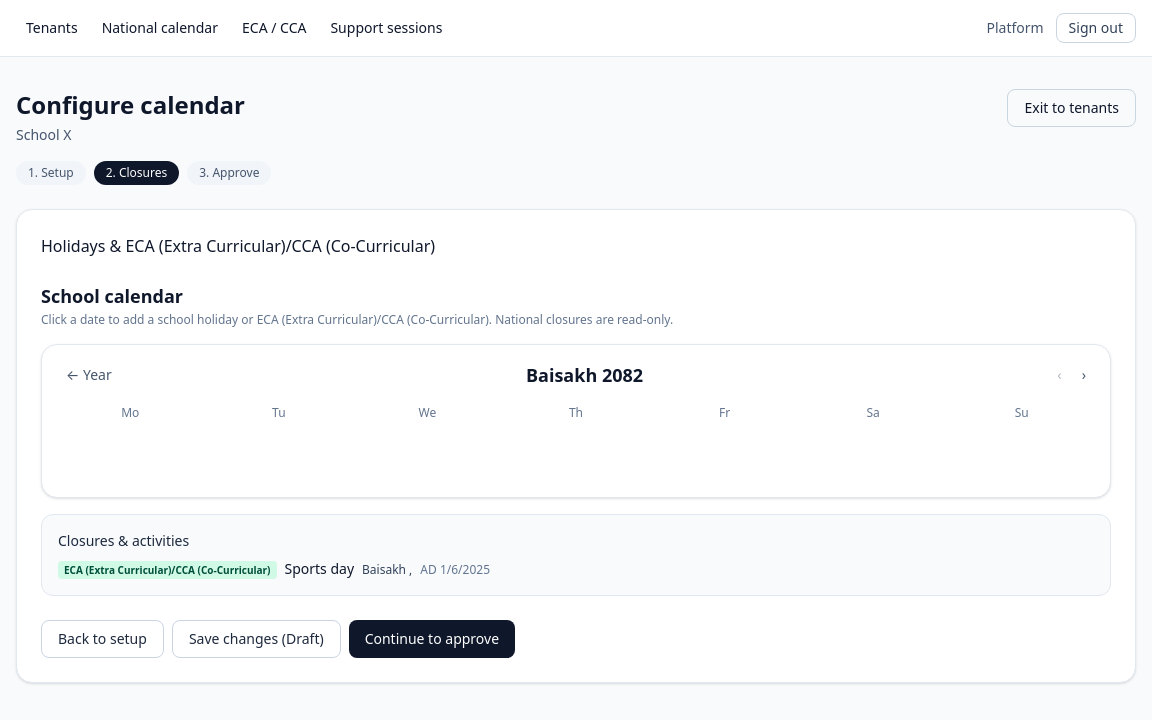
Test: TenantCalendarPage › saves draft without approving, then continues to approve step
Click the button with test id "closures-save-draft" at x=256, y=639, box 172,620 -> 341,658
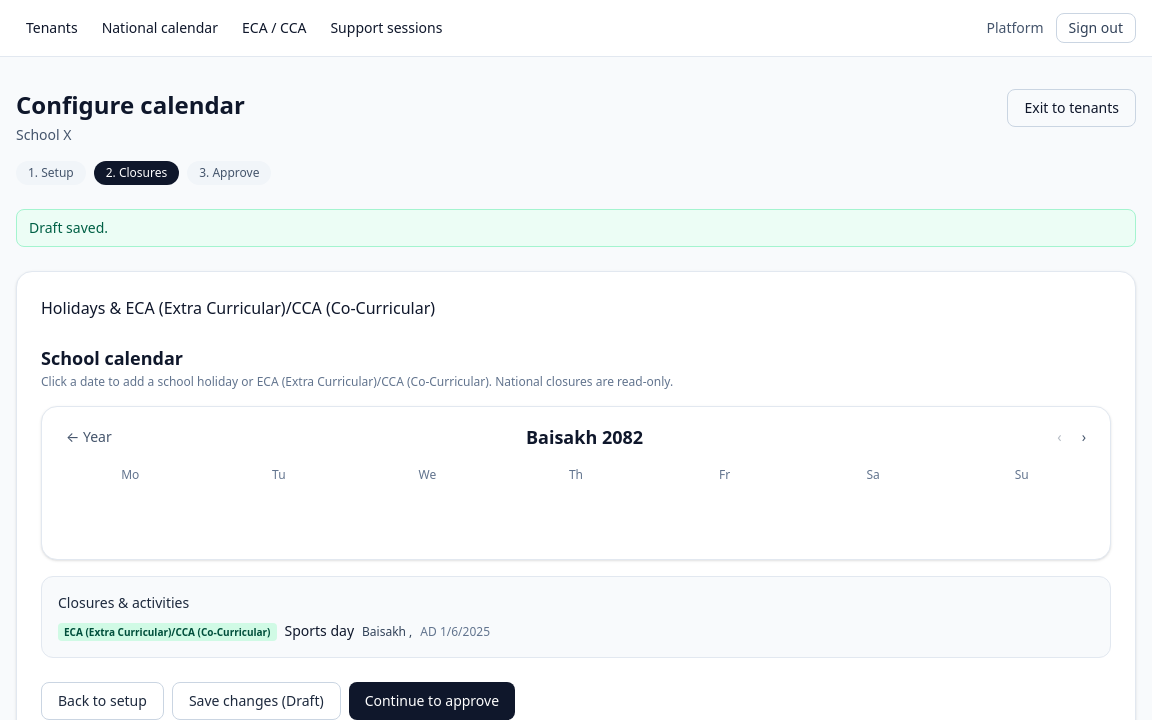
Expected: the text "Draft saved." is shown, 16,209 -> 1136,247
Click the button "Continue to approve" at x=432, y=701, box 349,682 -> 515,719
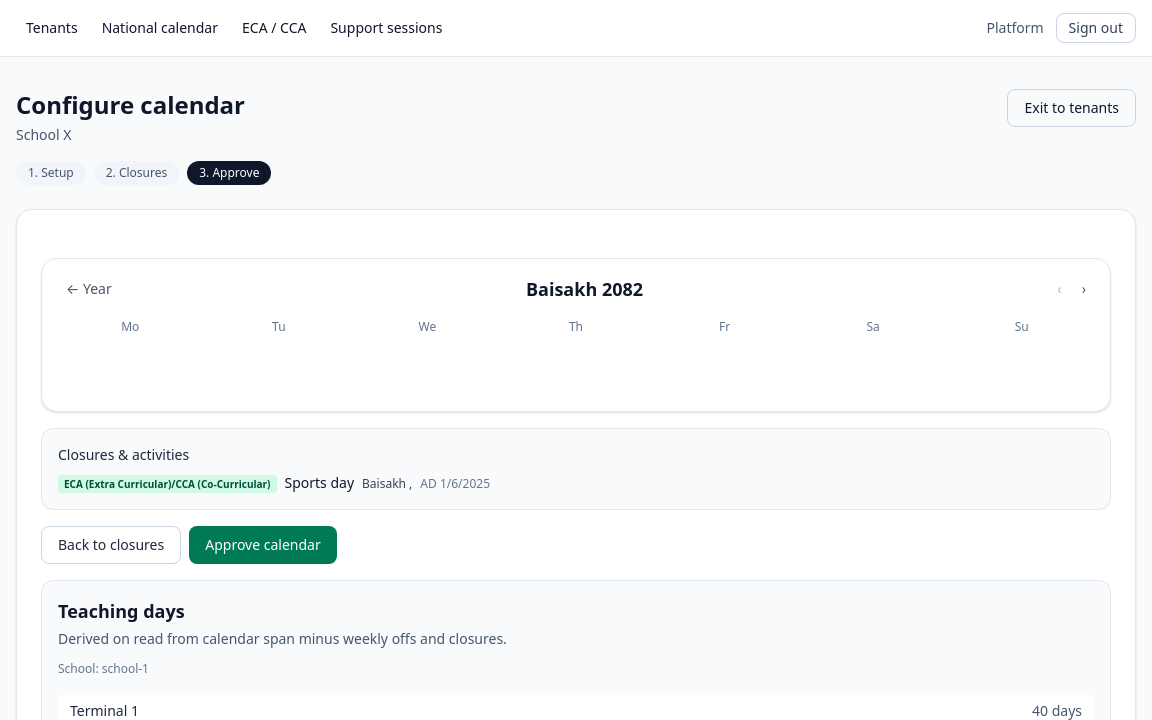
Expected: the button with test id "calendar-wizard-approve" is shown
Click the button with test id "calendar-wizard-approve" at x=263, y=545, box 189,526 -> 337,564
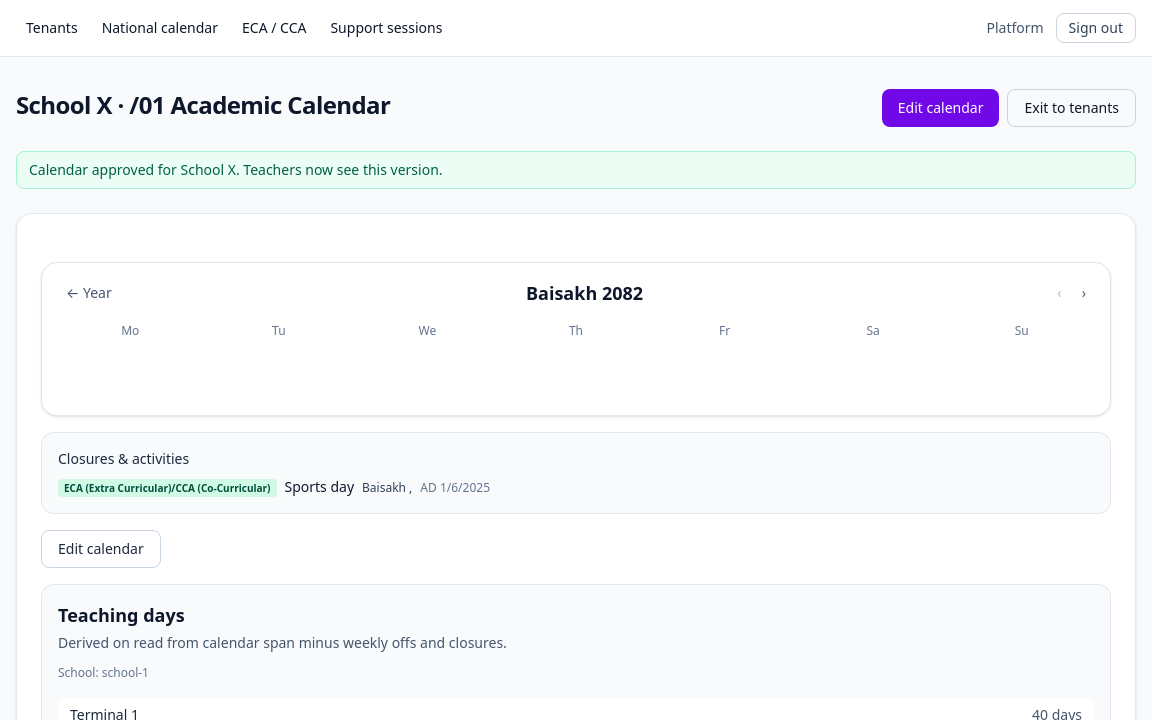
Expected: the text "Calendar approved for School X. Teachers now see this version." is shown, 16,151 -> 1136,189
